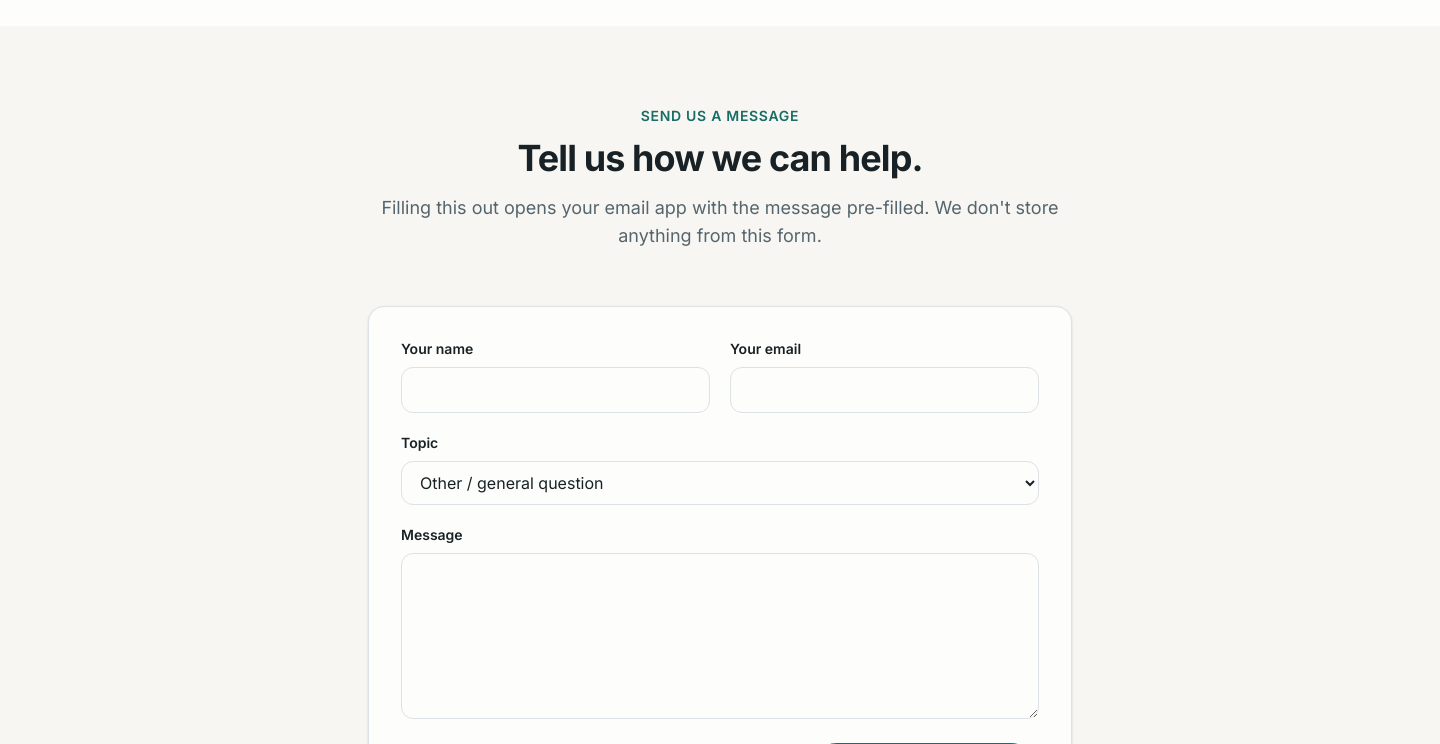
Contact page — mailto form success › opens a mailto: URL with the prefilled subject and body on valid submit
(page scrolled)
Type "Avery Donor" into the field labelled "Your name". click: (556, 390)
box: [401,367,710,413]
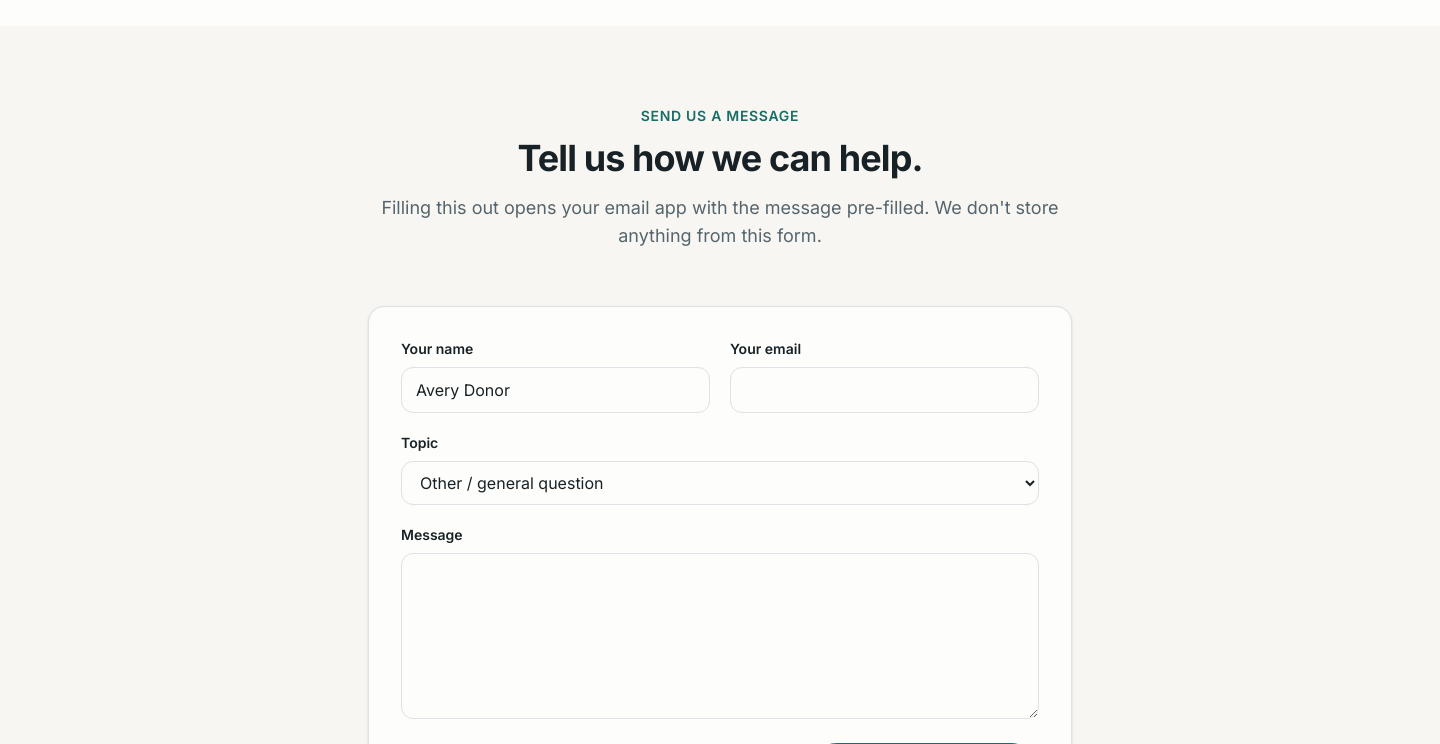
Type "avery@example.org" into the field labelled "Your email". click: (884, 390)
box: [730,367,1039,413]
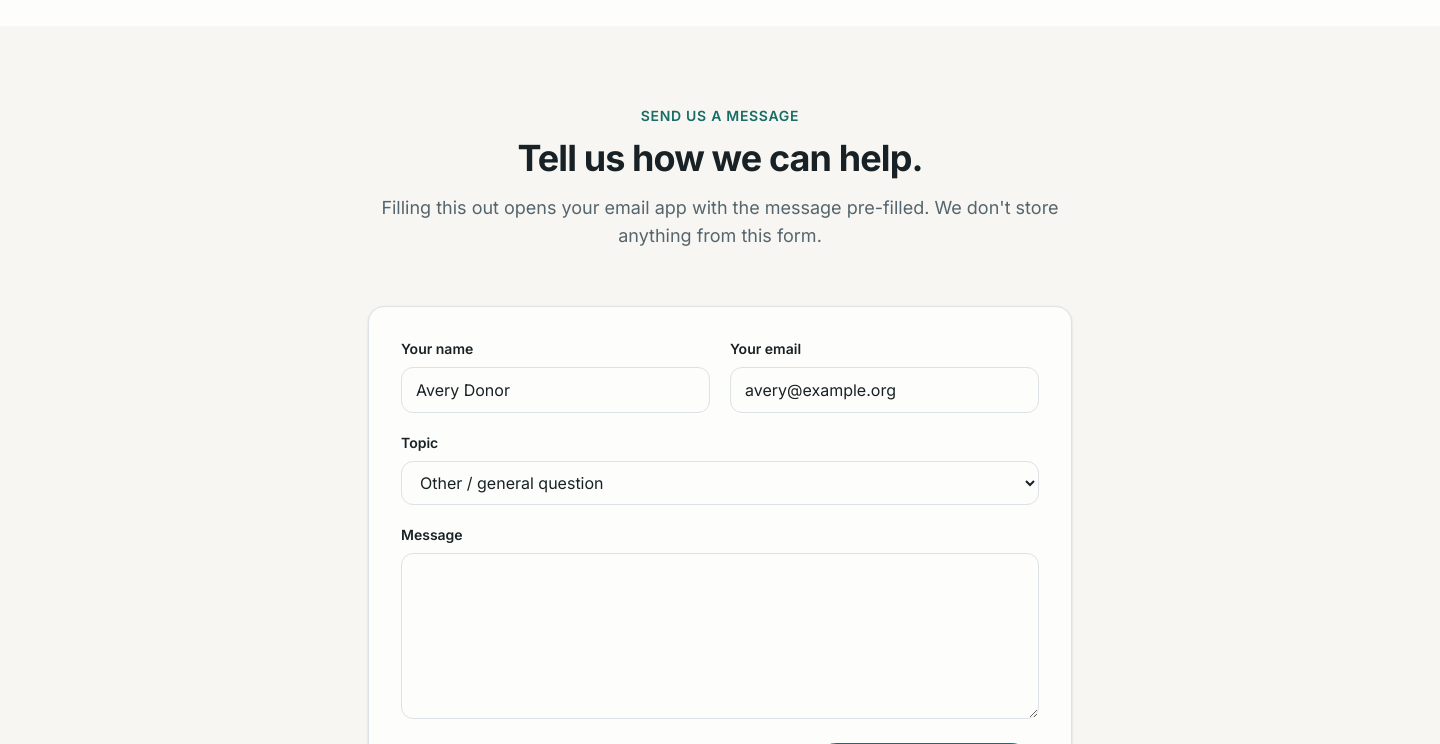
Select "Make a tribute or memorial gift" in the dropdown labelled "Topic". click: (720, 483)
box: [401,461,1039,505]
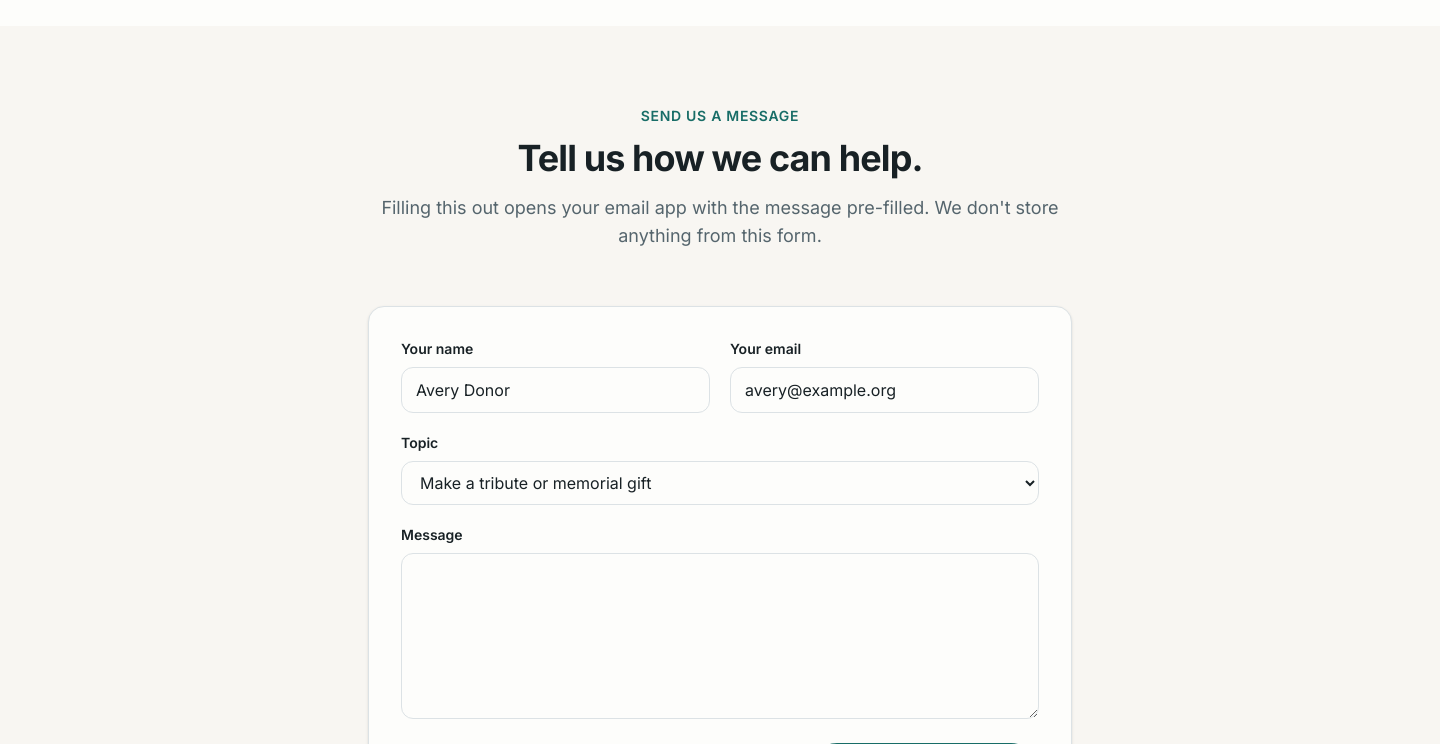
Type "I'd like to make a tribute gift." into the text box labelled "Message". click: (720, 636)
box: [401,553,1039,719]
(page scrolled)
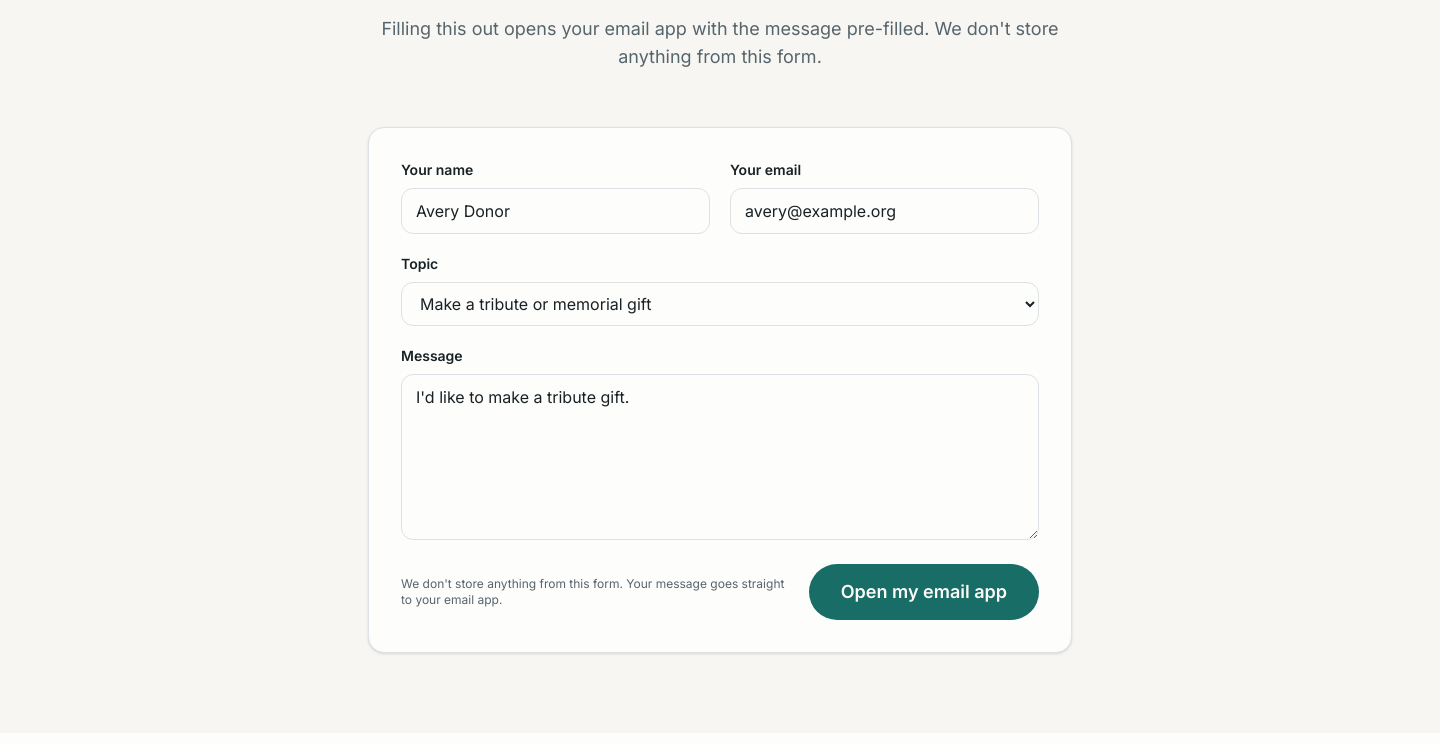
Submit the form with test id "contact-form", box [401,160,1039,620]
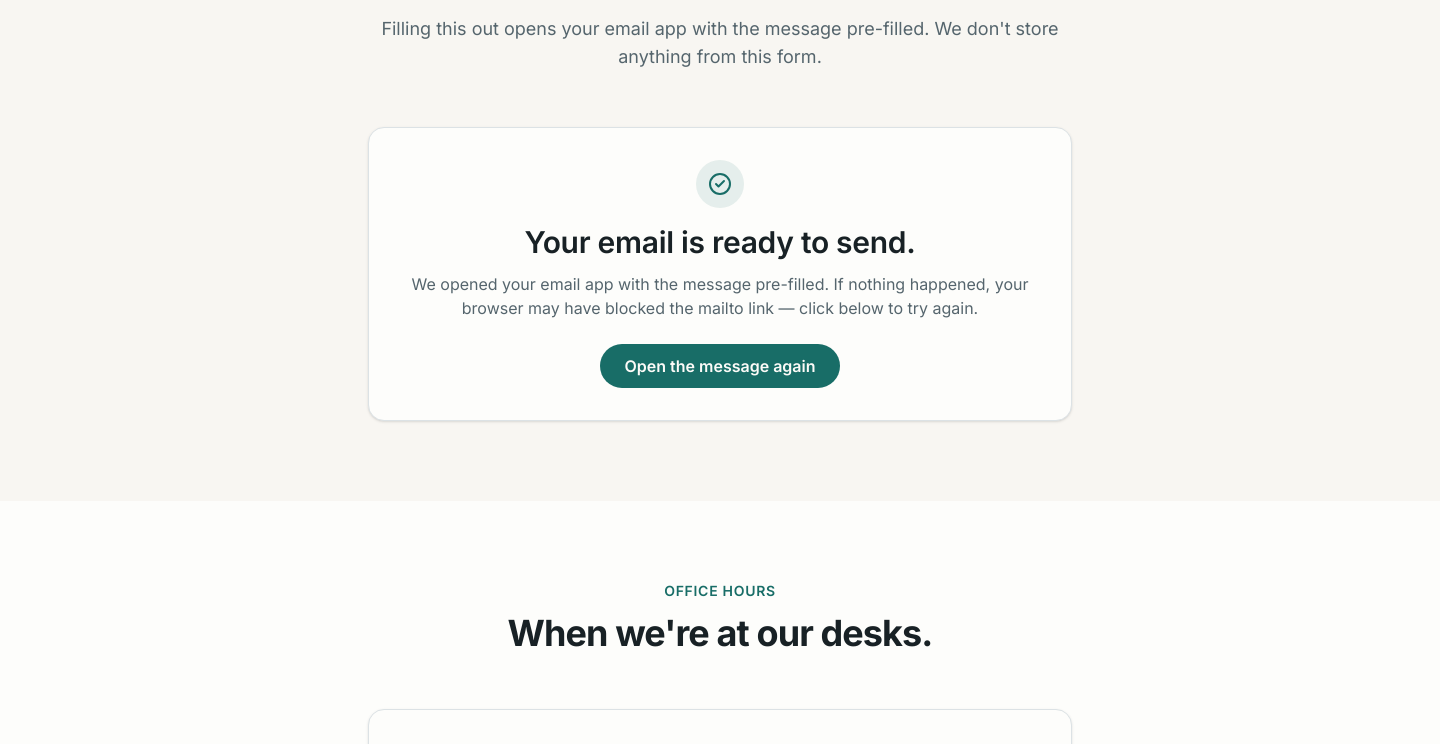
Check: the element with test id "contact-form-success" is shown, box [368,127,1072,421]
